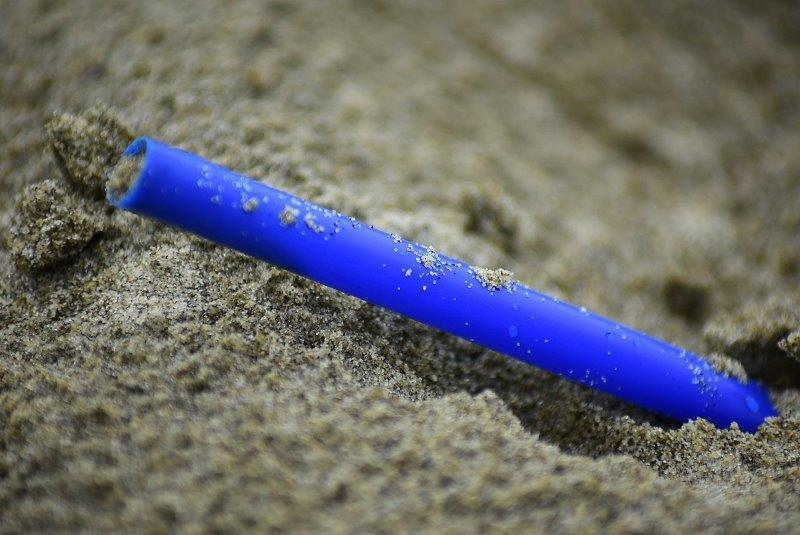plastic: (99, 137, 779, 436)
